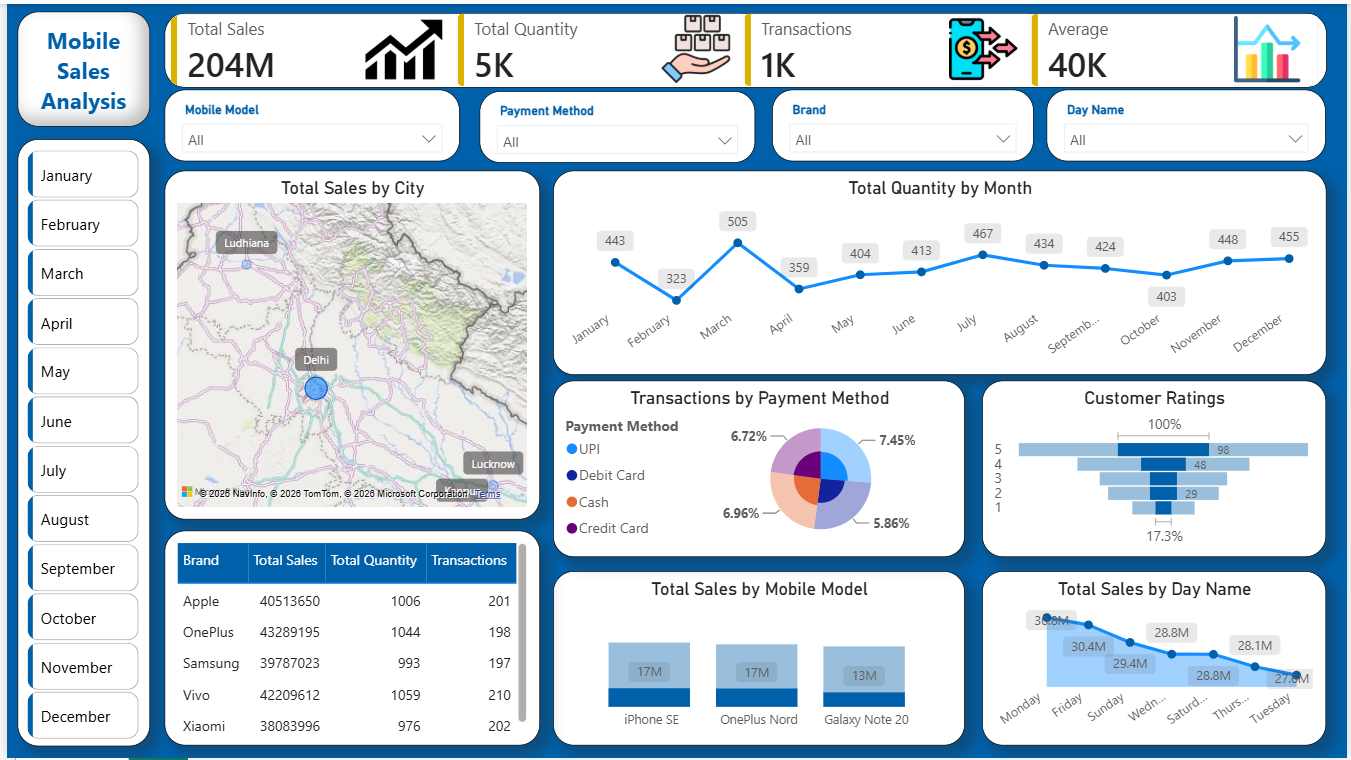

The page's visual inventory and layout, read from the dashboard file:
{"tool":"powerbi","page":{"name":"Page 1","canvas":[1280,720],"ordinal":0},"visuals":[{"type":"shape","box":[10,128.3,126.7,580],"z":0},{"type":"advancedSlicerVisual","fields":{"Values":["Mobile_Sales_Data.Date.Variation.Date Hierarchy.Month"]},"box":[15,135,116.7,573.3],"z":1000},{"type":"map","fields":{"Category":["Mobile_Sales_Data.City"],"Size":["Mobile_Sales_Data.Total Sales"]},"box":[150,158.3,358.3,333.3],"z":2000},{"type":"lineChart","fields":{"Y":["Mobile_Sales_Data.Total Quantity"],"Category":["Mobile_Sales_Data.Date.Variation.Date Hierarchy.Month","Mobile_Sales_Data.Date.Variation.Date Hierarchy.Day"]},"box":[521.7,158.3,738.3,195],"z":3000},{"type":"clusteredColumnChart","fields":{"Category":["Mobile_Sales_Data.Mobile Model"],"Y":["Mobile_Sales_Data.Total Sales"]},"box":[521.7,541.7,393.3,166.7],"z":4000},{"type":"textbox","box":[10,6.7,126.7,110],"z":5000},{"type":"pieChart","fields":{"Category":["Mobile_Sales_Data.Payment Method"],"Y":["Mobile_Sales_Data.Transactions"]},"box":[521.7,360,393.3,168.3],"z":6000},{"type":"funnel","title":"Customer Ratings","fields":{"Category":["Mobile_Sales_Data.Customer Ratings"],"Y":["CountNonNull(Mobile_Sales_Data.Customer Ratings)"]},"box":[931.7,360,328.3,168.3],"z":7000},{"type":"areaChart","fields":{"Category":["Mobile_Sales_Data.Day Name"],"Y":["Mobile_Sales_Data.Total Sales"]},"box":[931.7,541.7,328.3,166.7],"z":8000},{"type":"tableEx","fields":{"Values":["Mobile_Sales_Data.Brand","Mobile_Sales_Data.Total Sales","Mobile_Sales_Data.Total Quantity","Mobile_Sales_Data.Transactions"]},"box":[150,503.3,358.3,205],"z":9000},{"type":"slicer","fields":{"Values":["Mobile_Sales_Data.Mobile Model"]},"box":[150,81.7,281.7,68.3],"z":10000},{"type":"slicer","fields":{"Values":["Mobile_Sales_Data.Payment Method"]},"box":[451.7,83.3,263.3,68.3],"z":11000},{"type":"slicer","fields":{"Values":["Mobile_Sales_Data.Brand"]},"box":[730,81.7,250,68.3],"z":12000},{"type":"slicer","fields":{"Values":["Mobile_Sales_Data.Day Name"]},"box":[993.3,81.7,266.7,68.3],"z":13000},{"type":"cardVisual","fields":{"Data":["Mobile_Sales_Data.Total Sales","Mobile_Sales_Data.Total Quantity","Mobile_Sales_Data.Transactions","Mobile_Sales_Data.Average"]},"box":[150,8,1110,71],"z":14000},{"type":"image","box":[625,5,66.7,76.7],"z":15000},{"type":"image","box":[1161.7,11.7,83.3,63.3],"z":16000},{"type":"image","box":[900,1.7,65,83.3],"z":17000},{"type":"image","box":[341.7,3.3,73.3,81.7],"z":18000}]}

Visuals, with their boxes in screenshot pixels (x1, y1, x2, y2), scaled from the page's 1280x720 canvas onto the 1351x760 screenshot:
shape: bbox=(11, 135, 144, 748)
advancedSlicerVisual - Mobile_Sales_Data.Date.Variation.Date Hierarchy.Month: bbox=(16, 142, 139, 748)
map - Mobile_Sales_Data.City x Mobile_Sales_Data.Total Sales: bbox=(158, 167, 536, 519)
lineChart - Mobile_Sales_Data.Total Quantity x Mobile_Sales_Data.Date.Variation.Date Hierarchy.Month: bbox=(551, 167, 1330, 373)
clusteredColumnChart - Mobile_Sales_Data.Mobile Model x Mobile_Sales_Data.Total Sales: bbox=(551, 572, 966, 748)
textbox: bbox=(11, 7, 144, 123)
pieChart - Mobile_Sales_Data.Payment Method x Mobile_Sales_Data.Transactions: bbox=(551, 380, 966, 558)
"Customer Ratings" funnel: bbox=(983, 380, 1330, 558)
areaChart - Mobile_Sales_Data.Day Name x Mobile_Sales_Data.Total Sales: bbox=(983, 572, 1330, 748)
tableEx - Mobile_Sales_Data.Brand x Mobile_Sales_Data.Total Sales: bbox=(158, 531, 536, 748)
slicer - Mobile_Sales_Data.Mobile Model: bbox=(158, 86, 456, 158)
slicer - Mobile_Sales_Data.Payment Method: bbox=(477, 88, 755, 160)
slicer - Mobile_Sales_Data.Brand: bbox=(770, 86, 1034, 158)
slicer - Mobile_Sales_Data.Day Name: bbox=(1048, 86, 1330, 158)
cardVisual - Mobile_Sales_Data.Total Sales x Mobile_Sales_Data.Total Quantity: bbox=(158, 8, 1330, 83)
image: bbox=(660, 5, 730, 86)
image: bbox=(1226, 12, 1314, 79)
image: bbox=(950, 2, 1019, 90)
image: bbox=(361, 3, 438, 90)
